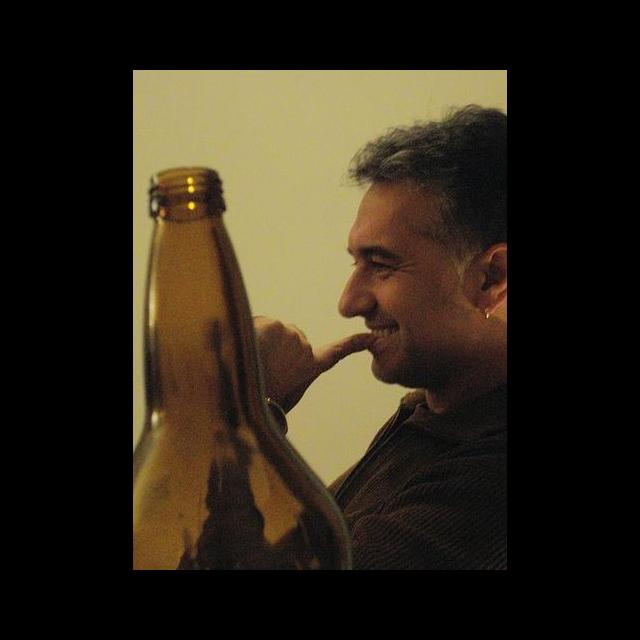NO-Hardhat: (362, 107, 507, 210)
NO-Mask: (367, 307, 484, 384)
NO-Safety Vest: (327, 385, 507, 570)
Person: (246, 104, 507, 570)
